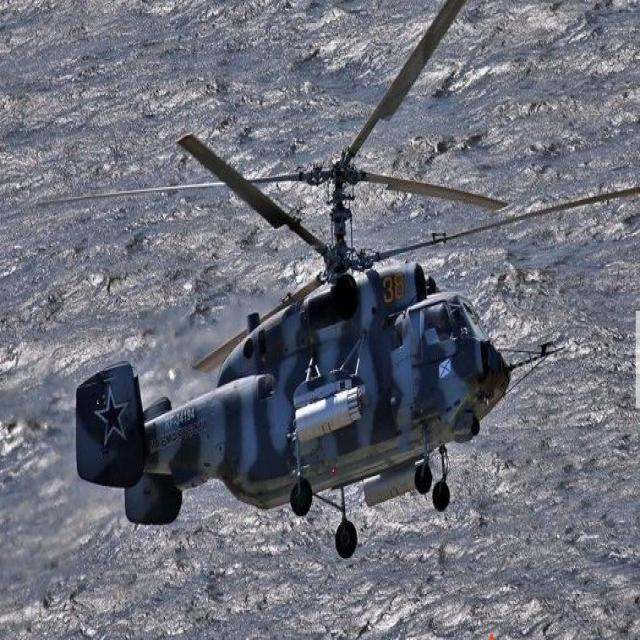MIL_HELO: (27, 4, 640, 560)
